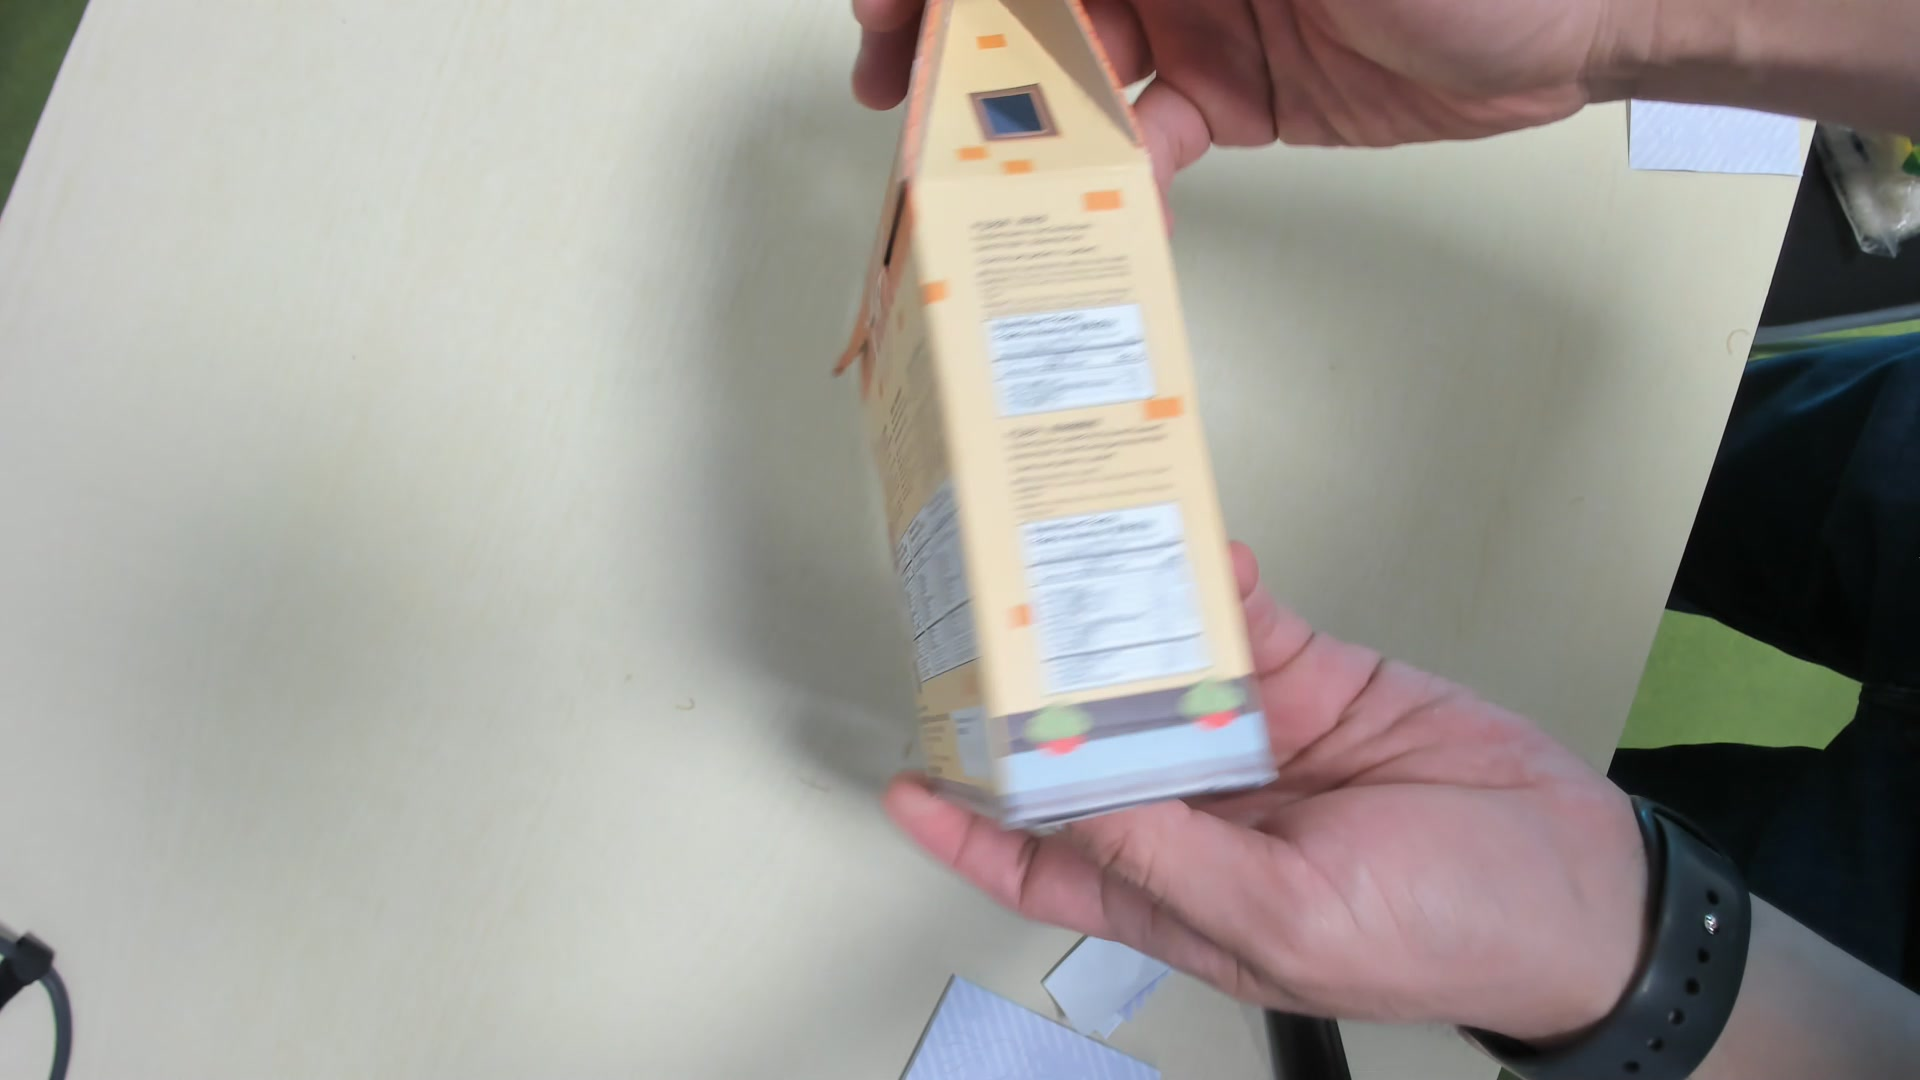SweetsChocolatesOthers_0-99g_Halal_Nonhealthy: (827, 3, 1267, 836)
